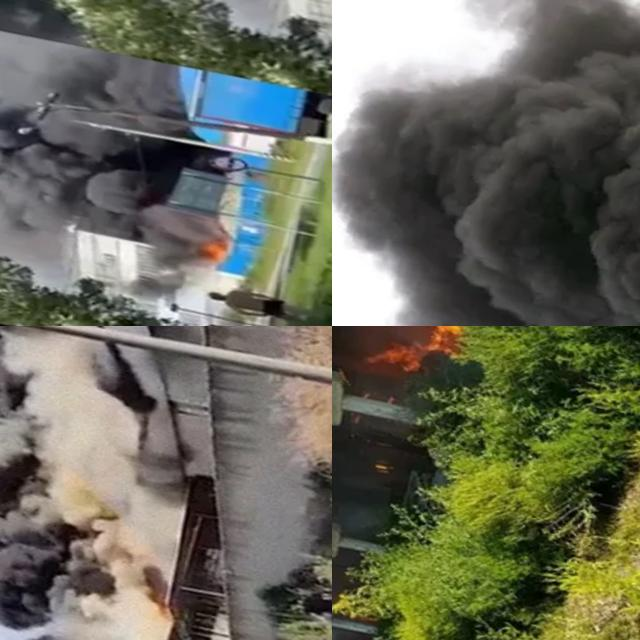smoke: (332, 0, 640, 326), (0, 326, 308, 640), (0, 0, 180, 326), (0, 0, 332, 98)
